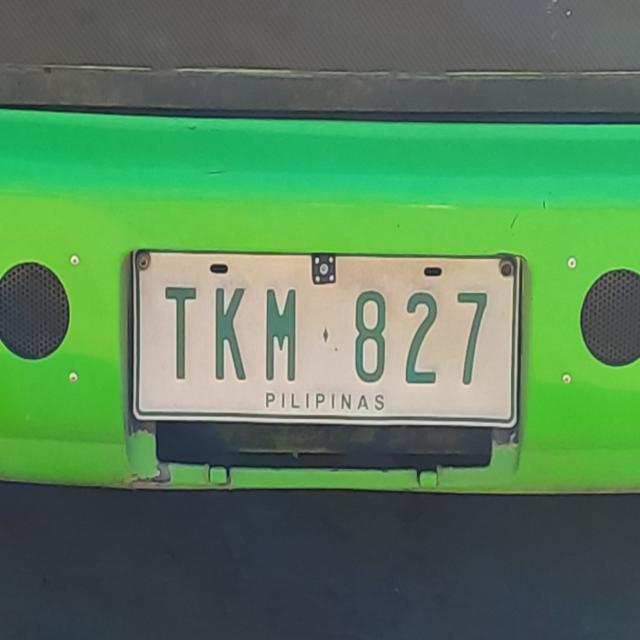plate: (126, 242, 528, 436)
